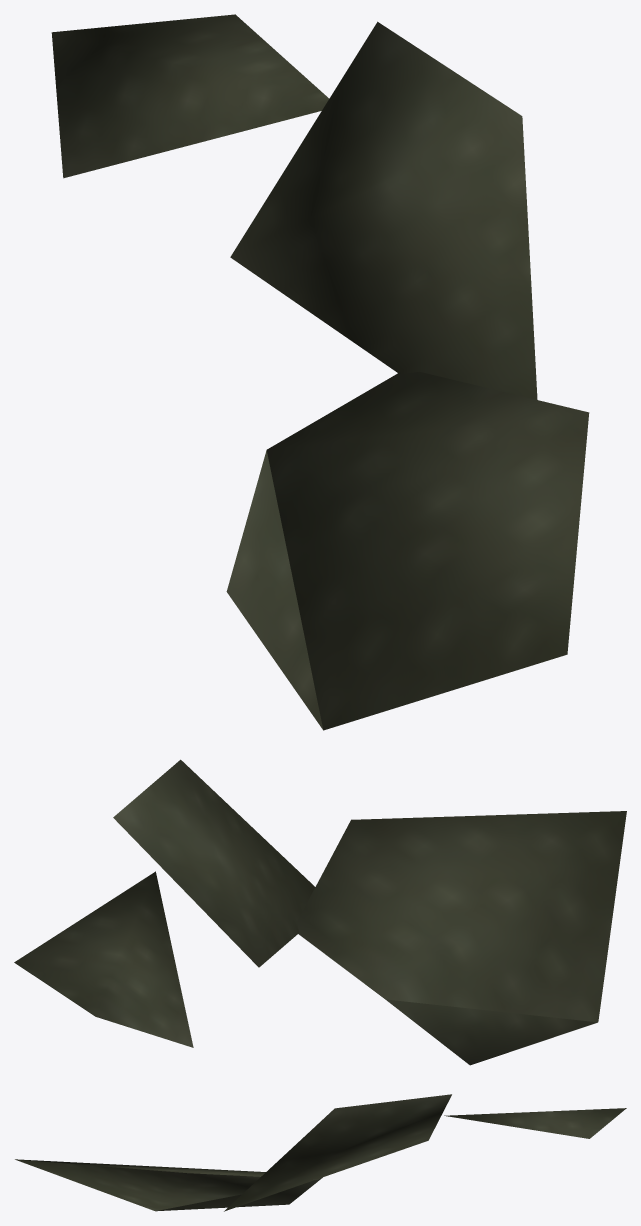
Rendered from cactus2.FBX.
The picture shows the model from 3 angles, top to bottom: view 1: azimuth 30°, elevation 25°; view 2: azimuth 150°, elevation 25°; view 3: azimuth 270°, elevation 25°; orthographic projection. The views are drawn at different scales.
Parts seen in each view (by area): view 1: DE_Cactus_C_01_LOD_02; view 2: DE_Cactus_C_01_LOD_02; view 3: DE_Cactus_C_01_LOD_02.
Boxes of the visible parts, x1,y1,x2,y2 form: DE_Cactus_C_01_LOD_02: (51, 14, 589, 730); DE_Cactus_C_01_LOD_02: (14, 759, 626, 1065); DE_Cactus_C_01_LOD_02: (15, 1094, 626, 1211).
Size of the model in its own units: 0.1585 by 0.1623 by 0.4445.
